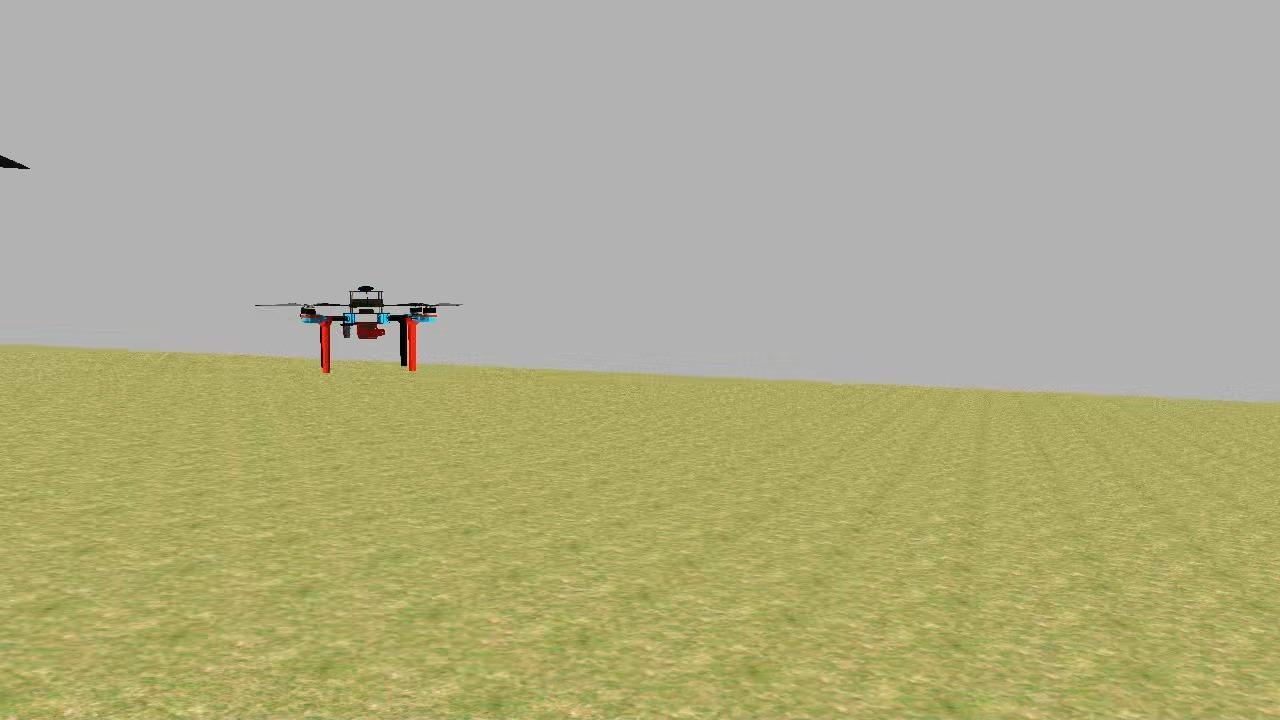UAV: (292, 278, 444, 378)
